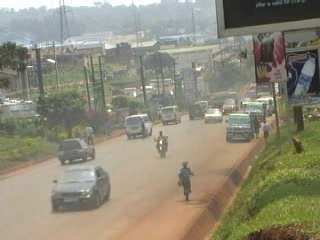Car: (49, 164, 112, 213), (55, 136, 98, 164), (202, 105, 225, 125), (188, 100, 206, 120), (241, 96, 257, 111)
Motorcycle: (151, 128, 170, 158)
